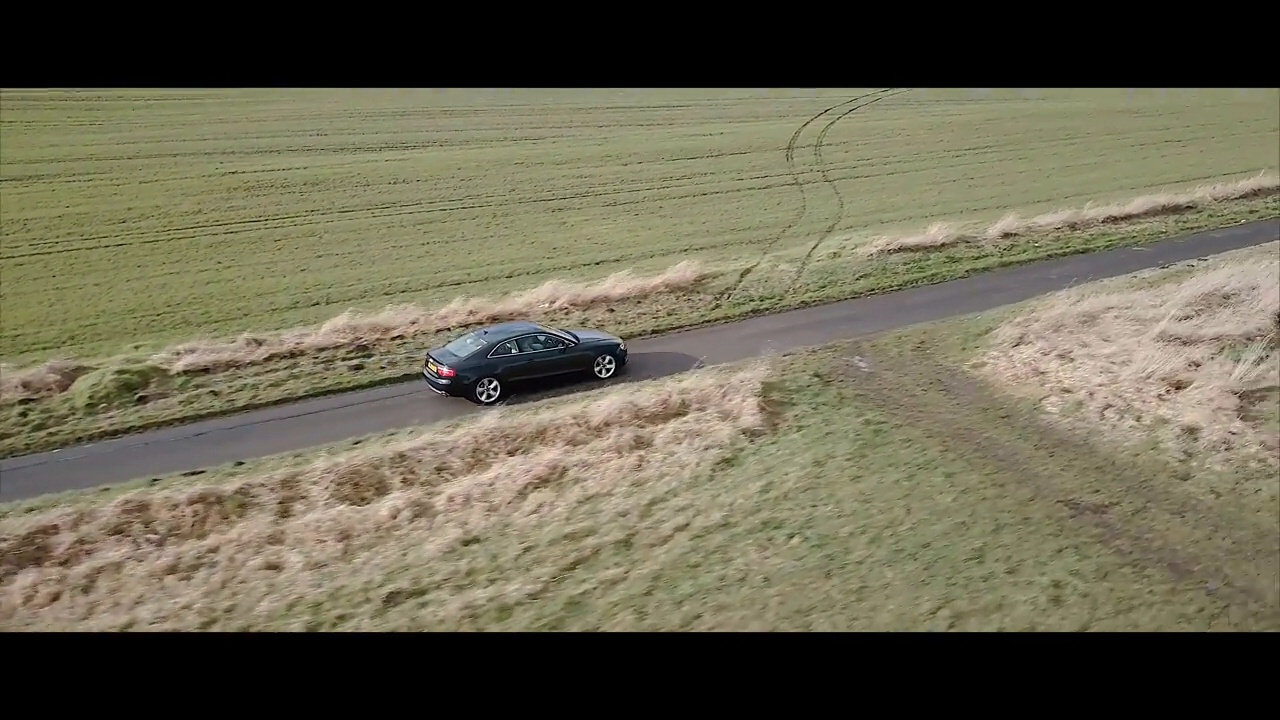araba: (420, 312, 630, 410)
